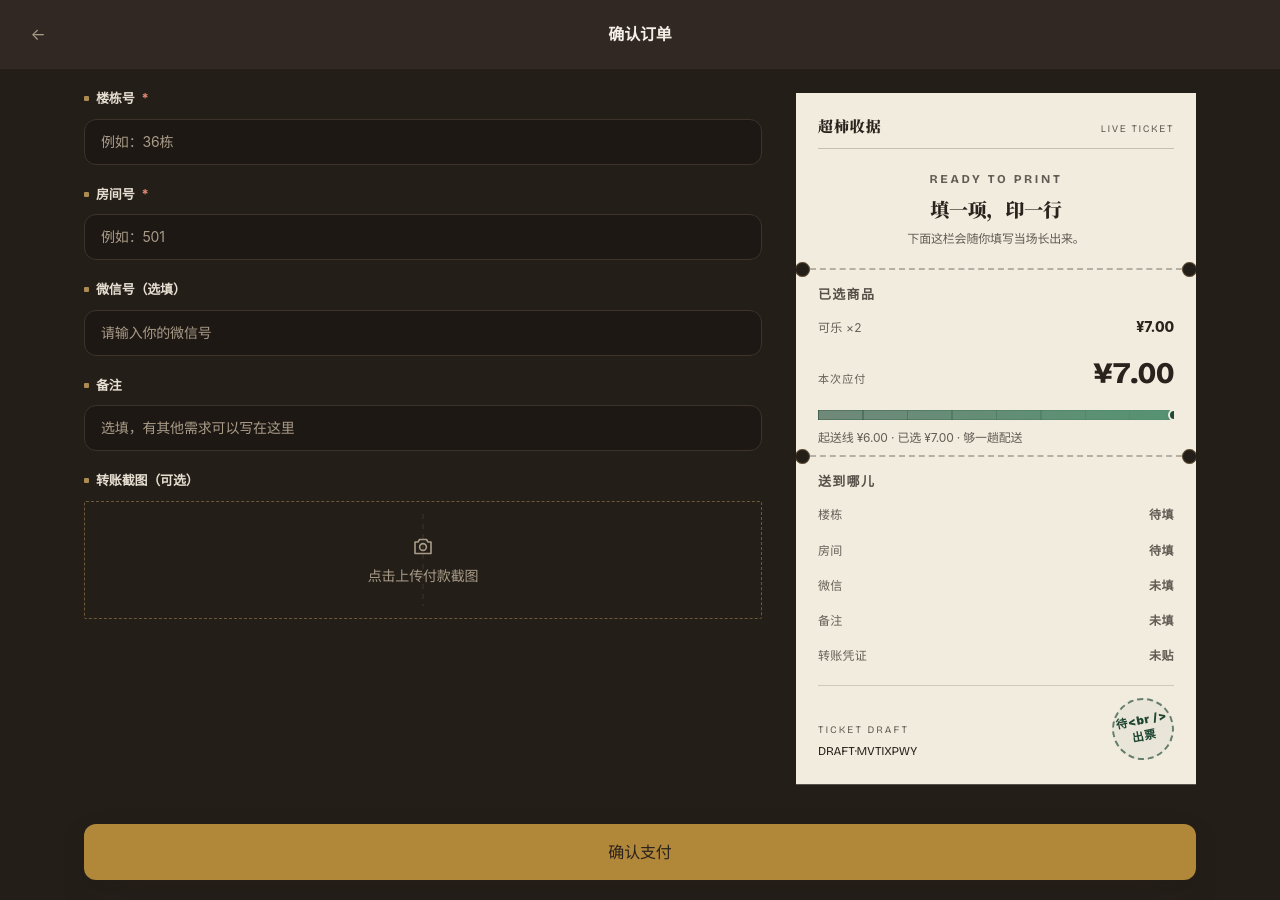
Test: 下单主链路（加购 → 确认 → 支付） › OrderConfirmPage：未填房间号阻止提交并提示（房间号必填）
This screenshot has width=1280, height=900.
Type "36栋" into the field with placeholder "例如：36栋". click: (423, 142)
box: x1=84 y1=118 x2=762 y2=164
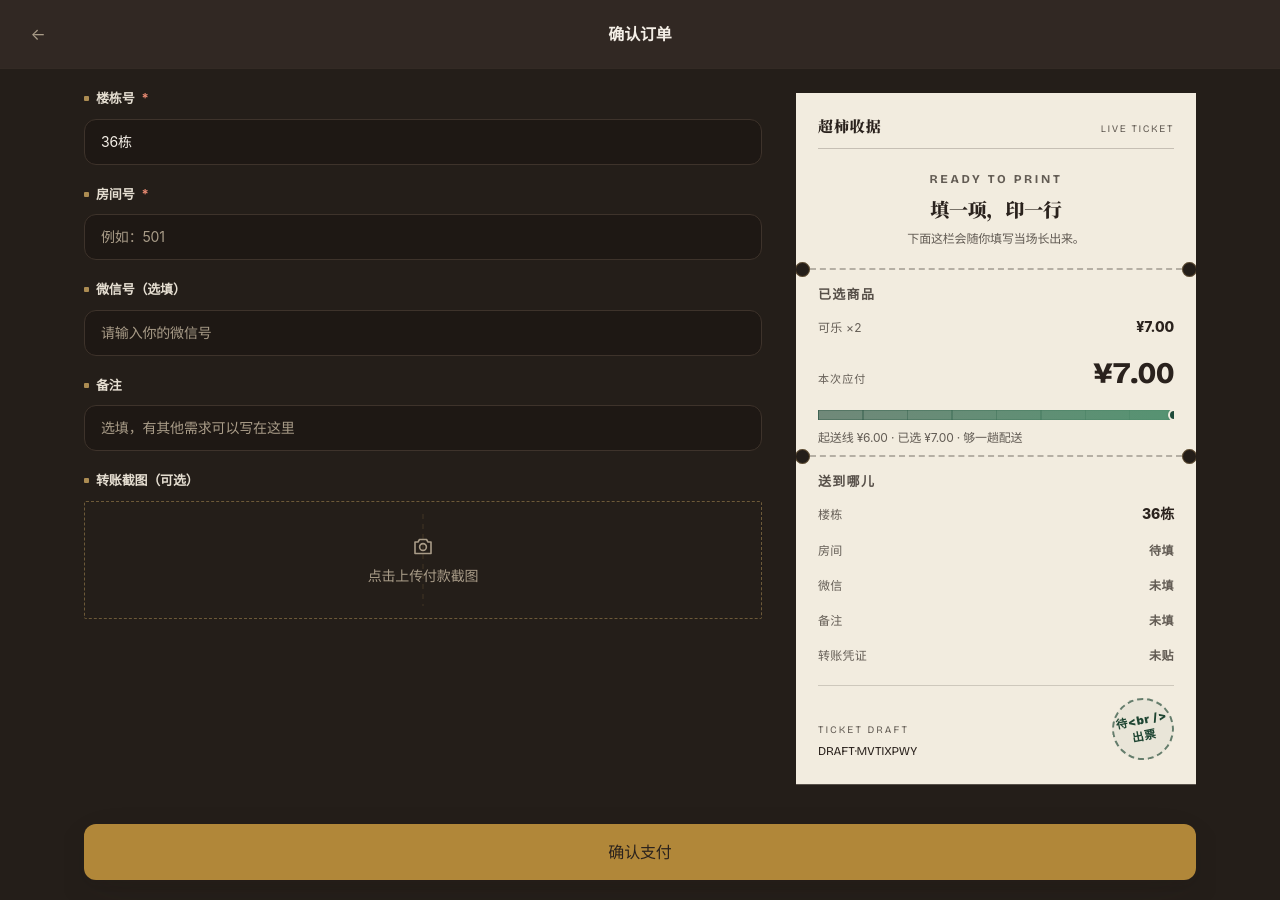
Click the button "确认支付". click: (640, 852)
box: x1=84 y1=824 x2=1196 y2=880
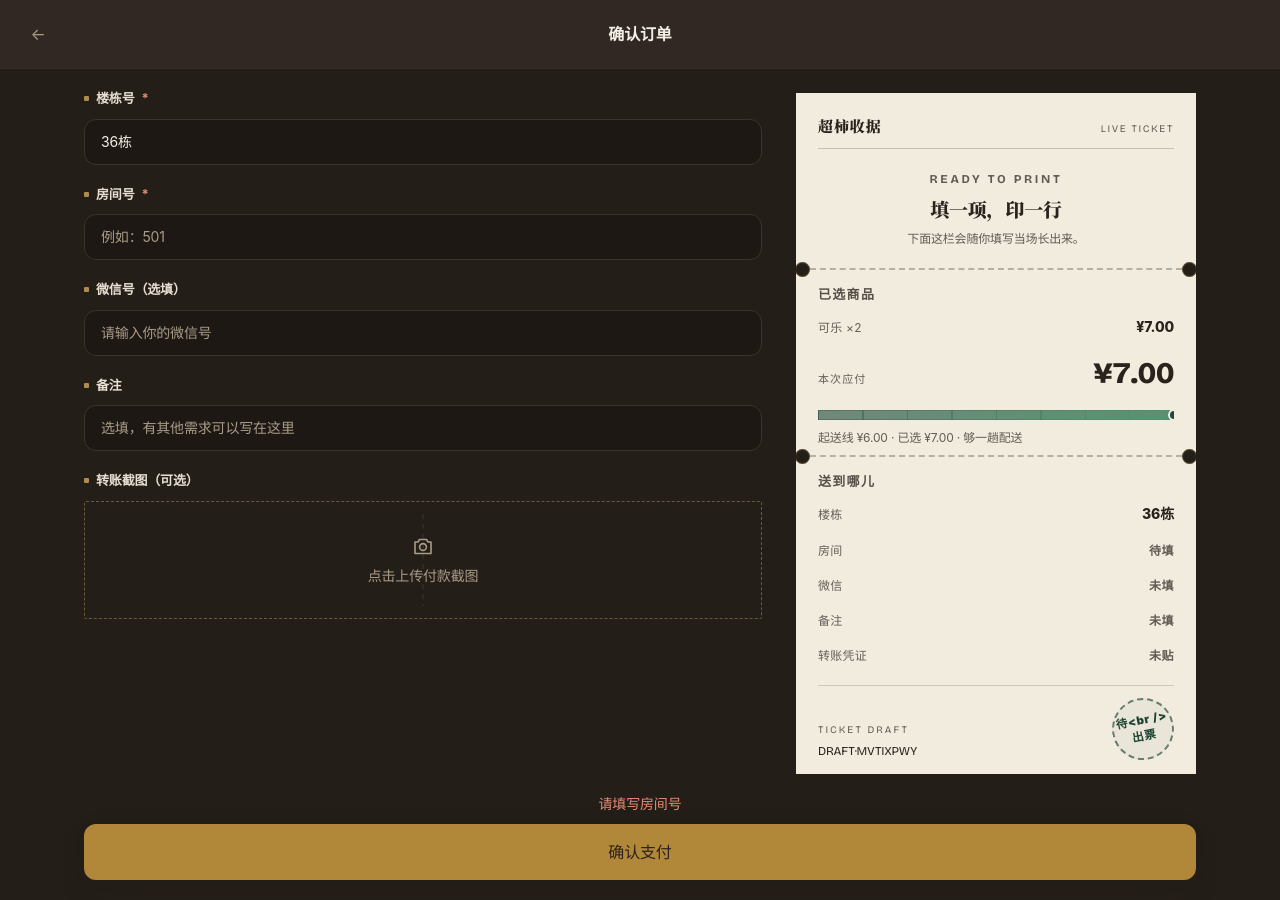
Result: the text "请填写房间号" is shown at x1=598 y1=795 x2=682 y2=812
